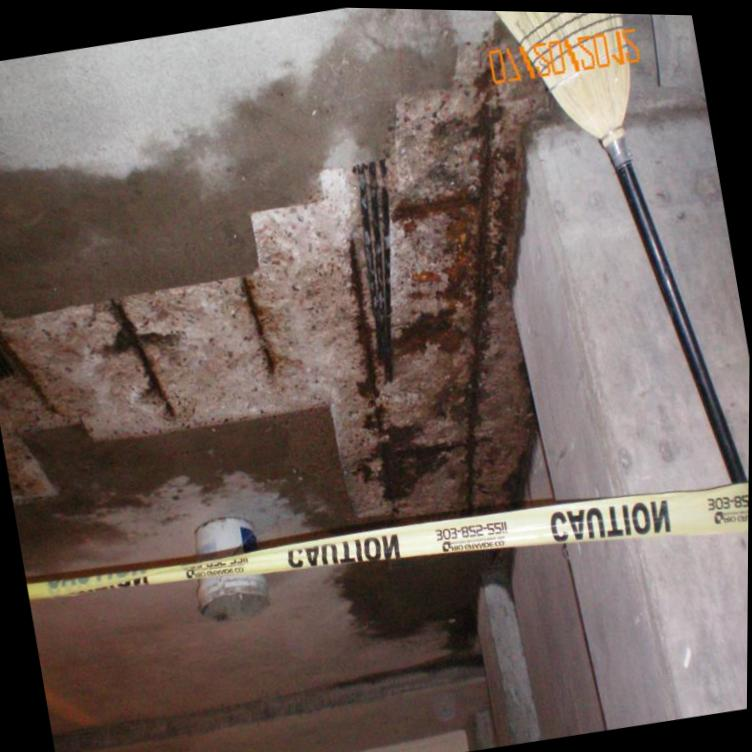damage: (0, 42, 549, 521)
